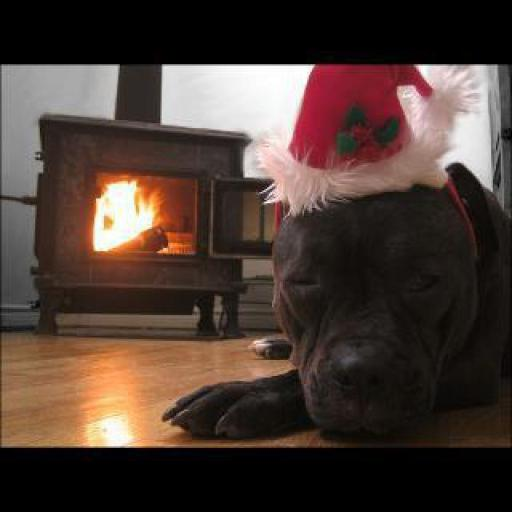smoke: (84, 170, 178, 250)
